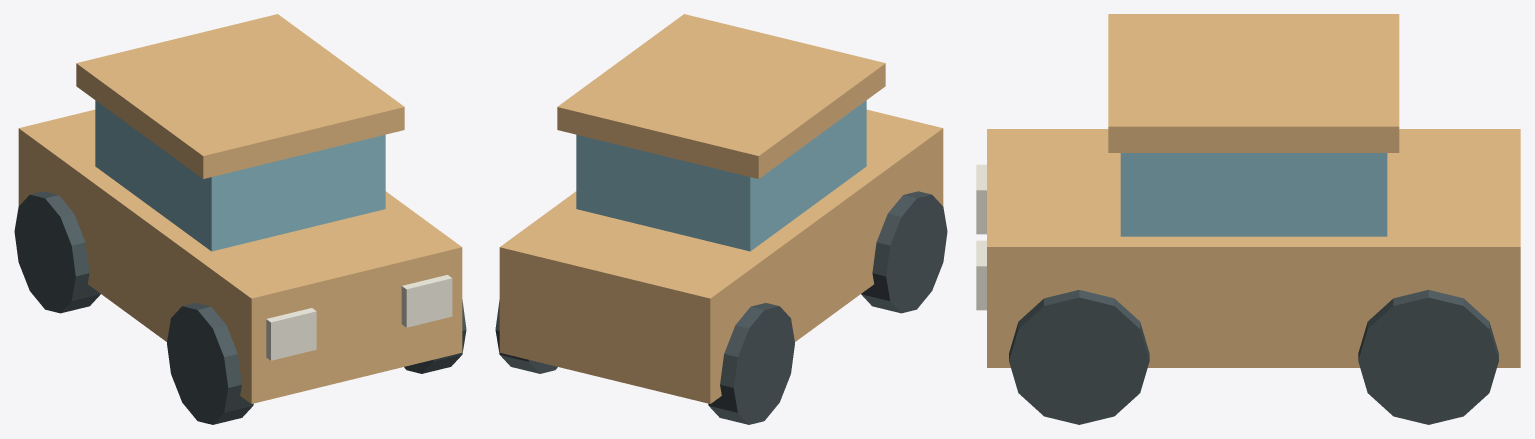
File: car.glb
The picture shows the model from 3 angles, left to right: view 1: azimuth 30°, elevation 25°; view 2: azimuth 150°, elevation 25°; view 3: azimuth 270°, elevation 25°; orthographic projection. The views are drawn at different scales.
Visible parts, largest first — view 1: car body, windscreen, wheel, headlight; view 2: car body, windscreen, wheel; view 3: car body, wheel, windscreen, headlight.
Part boxes in pixels (bbox=[...]): car body: bbox=[18, 14, 462, 403]; windscreen: bbox=[95, 100, 385, 251]; wheel: bbox=[14, 191, 466, 424]; headlight: bbox=[266, 275, 452, 360]; car body: bbox=[499, 14, 943, 403]; windscreen: bbox=[576, 100, 866, 251]; wheel: bbox=[495, 191, 947, 424]; car body: bbox=[987, 14, 1520, 367]; wheel: bbox=[1009, 290, 1498, 424]; windscreen: bbox=[1120, 153, 1387, 236]; headlight: bbox=[976, 164, 986, 310].
Bounding box in the file's own units: 1.3 × 1.31 × 2.25.
